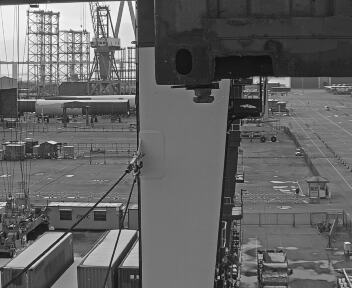twist_lock_1: (181, 80, 223, 109)
